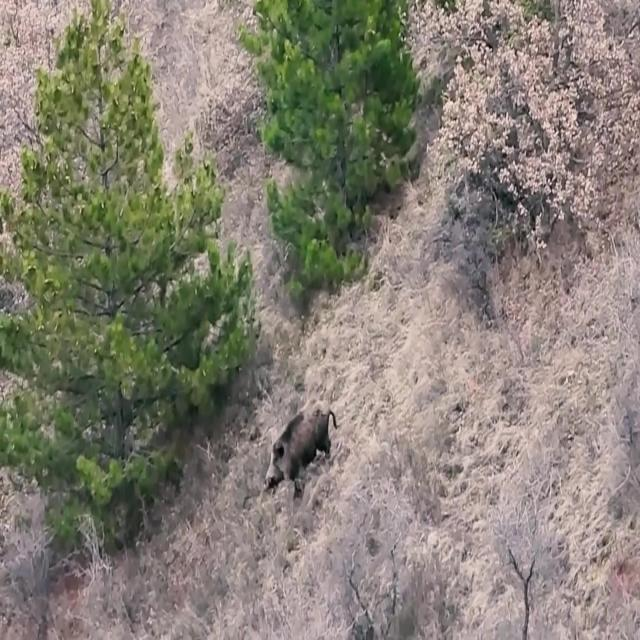pig: (266, 396, 342, 518)
